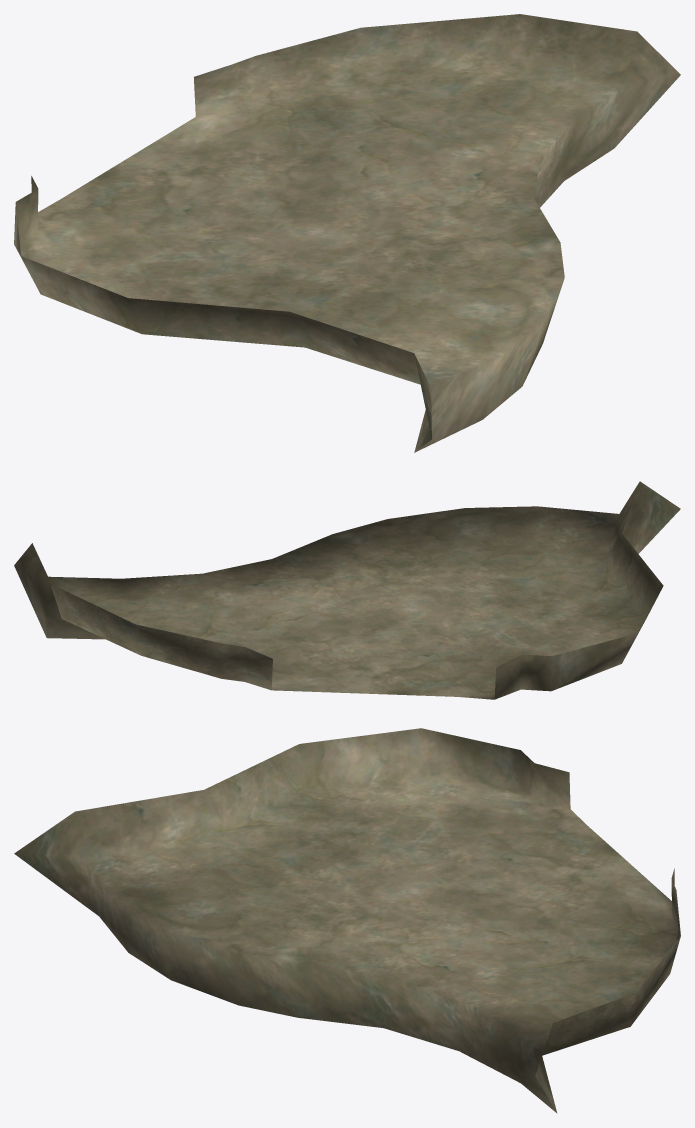
File: EKH_CAVERNS_PS_CA_PLATFORM0099884.fbx
The picture shows the model from 3 angles, top to bottom: view 1: azimuth 30°, elevation 25°; view 2: azimuth 150°, elevation 25°; view 3: azimuth 270°, elevation 25°; orthographic projection. The views are drawn at different scales.
Visible parts, largest first — view 1: EKH_CAVERNS_PS_CA_PLATFORM0099884; view 2: EKH_CAVERNS_PS_CA_PLATFORM0099884; view 3: EKH_CAVERNS_PS_CA_PLATFORM0099884.
Part boxes in pixels (x1,y1,x2,y2): EKH_CAVERNS_PS_CA_PLATFORM0099884: (14,14,680,452); EKH_CAVERNS_PS_CA_PLATFORM0099884: (14,481,680,699); EKH_CAVERNS_PS_CA_PLATFORM0099884: (14,728,680,1113).
Bounding box in the file's own units: 72583 × 10891 × 66078.
Materials: 1 (1 with a texture image).
